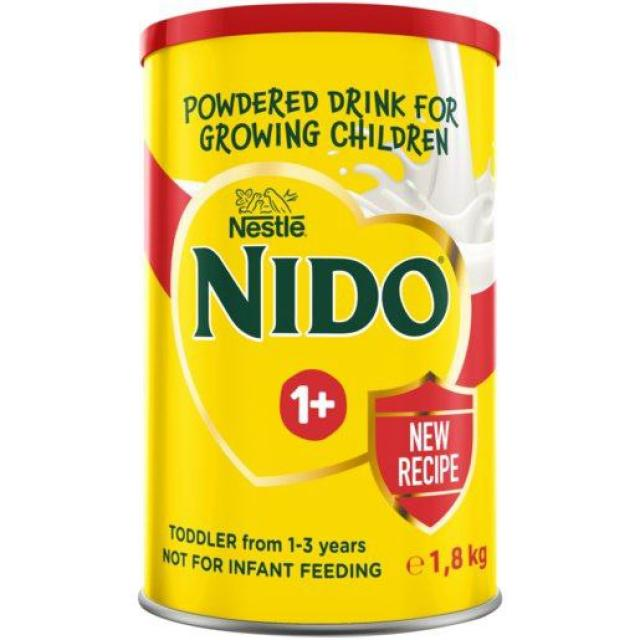formula-milk: (163, 30, 501, 598)
